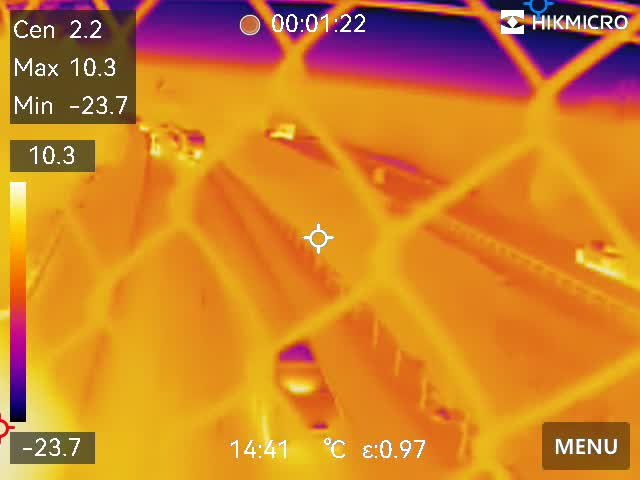vehicle: (265, 333, 343, 443)
